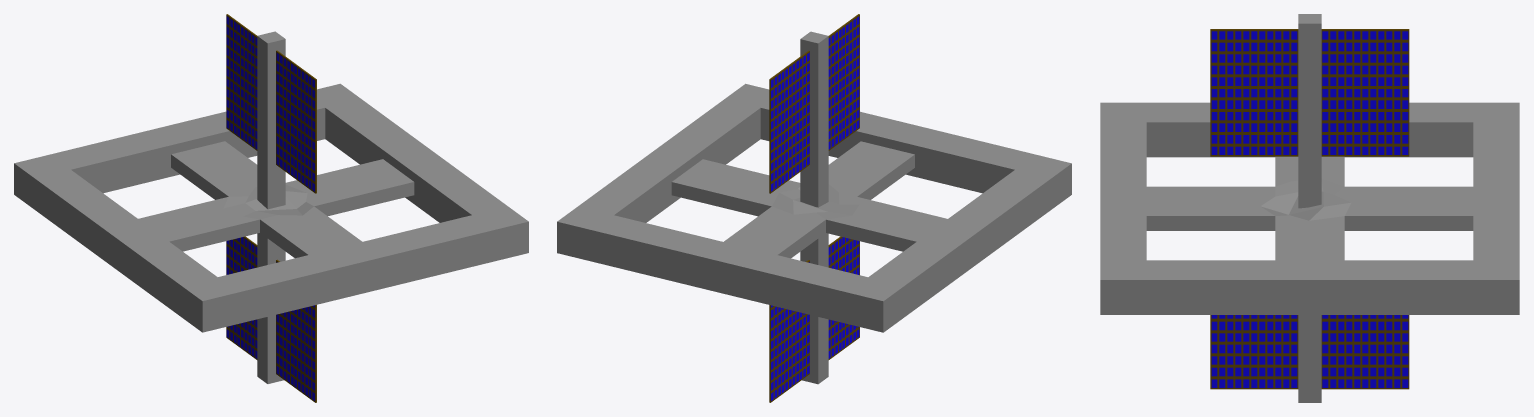
File: Solar Panel Array - Fragmented.fbx
The picture shows the model from 3 angles, left to right: view 1: azimuth 30°, elevation 25°; view 2: azimuth 150°, elevation 25°; view 3: azimuth 270°, elevation 25°; orthographic projection. The views are drawn at different scales.
Visible parts, largest first — view 1: Cube.011, Cube.008, Cube.007, Cube.013, Cube.004, Cube.003, Cube.009, Cube.015, Cube.005, Cube.014, Cube.017, Cube.012 (+21 smaller); view 2: Cube.013, Cube.014, Cube.011, Cube.003, Cube.008, Cube.004, Cube.006, Cube.015, Cube.017, Cube.009, Cube.012, Cube.018 (+21 smaller); view 3: Cube.003, Cube.004, Cube.005, Cube.006, Cube.015, Cube.018, Cube.017, Cube.016, Cube.013, Cube.012, Cube.014, Cube.007 (+20 smaller).
Boxes of the visible parts, box(x1,y1,x2,y2) form: Cube.011: box(41, 183, 201, 293); Cube.008: box(261, 242, 422, 310); Cube.007: box(360, 215, 528, 278); Cube.013: box(15, 111, 226, 193); Cube.004: box(276, 50, 316, 193); Cube.003: box(226, 14, 257, 150); Cube.009: box(202, 266, 293, 332); Cube.015: box(325, 84, 408, 159); Cube.005: box(276, 259, 316, 402); Cube.014: box(151, 84, 339, 181); Cube.017: box(399, 153, 457, 222); Cube.012: box(14, 163, 111, 228); Cube.013: box(650, 244, 883, 332); Cube.014: box(557, 215, 786, 307); Cube.011: box(909, 181, 1043, 297); Cube.003: box(769, 50, 809, 193); Cube.008: box(872, 115, 1007, 183); Cube.004: box(828, 14, 859, 150); Cube.006: box(769, 260, 809, 402); Cube.015: box(557, 171, 670, 222); Cube.017: box(652, 118, 746, 169); Cube.009: box(944, 148, 1070, 193); Cube.012: box(868, 247, 930, 332); Cube.018: box(673, 84, 760, 160); Cube.003: box(1321, 29, 1409, 156); Cube.004: box(1210, 29, 1298, 156); Cube.005: box(1210, 315, 1298, 389); Cube.006: box(1321, 315, 1409, 389); Cube.015: box(1346, 260, 1519, 314); Cube.018: box(1100, 260, 1260, 314); Cube.017: box(1178, 260, 1309, 314); Cube.016: box(1309, 260, 1469, 314); Cube.013: box(1473, 103, 1519, 229); Cube.012: box(1381, 102, 1518, 157); Cube.014: box(1473, 166, 1519, 279); Cube.007: box(1100, 199, 1146, 279).
Bounding box in the file's own units: 200 × 200 × 200.
